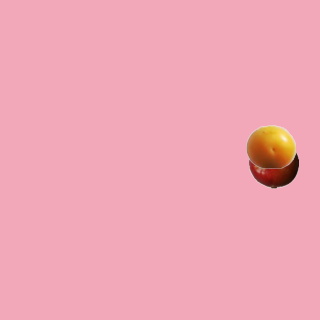Apple Braeburn: (248, 138, 298, 188)
Cherry Wax Yellow: (245, 121, 295, 171)
